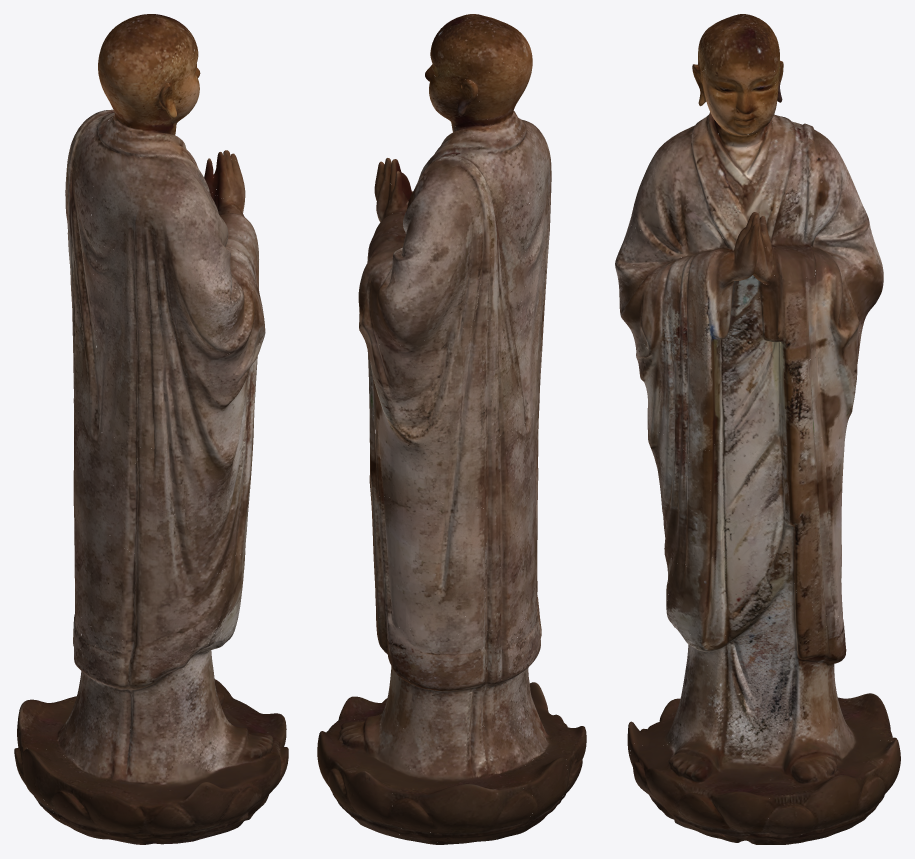
The model's file is f4-ananda.glb.
3 views of the same model, side by side, from view 1: azimuth 30°, elevation 25°; view 2: azimuth 150°, elevation 25°; view 3: azimuth 270°, elevation 25° (orthographic). The views are drawn at different scales.
Visible parts, largest first — view 1: tripo_node_bf90d62f-d5e3-4b8c-91b2-a86f95c1baa9; view 2: tripo_node_bf90d62f-d5e3-4b8c-91b2-a86f95c1baa9; view 3: tripo_node_bf90d62f-d5e3-4b8c-91b2-a86f95c1baa9.
Boxes of the visible parts, left/top/right/bottom form: tripo_node_bf90d62f-d5e3-4b8c-91b2-a86f95c1baa9: left=14, top=14, right=288, bottom=844; tripo_node_bf90d62f-d5e3-4b8c-91b2-a86f95c1baa9: left=317, top=14, right=586, bottom=844; tripo_node_bf90d62f-d5e3-4b8c-91b2-a86f95c1baa9: left=615, top=14, right=900, bottom=844.
Bounding box in the file's own units: 0.3104 × 1 × 0.3354.
Materials: 1 (1 with a texture image).
